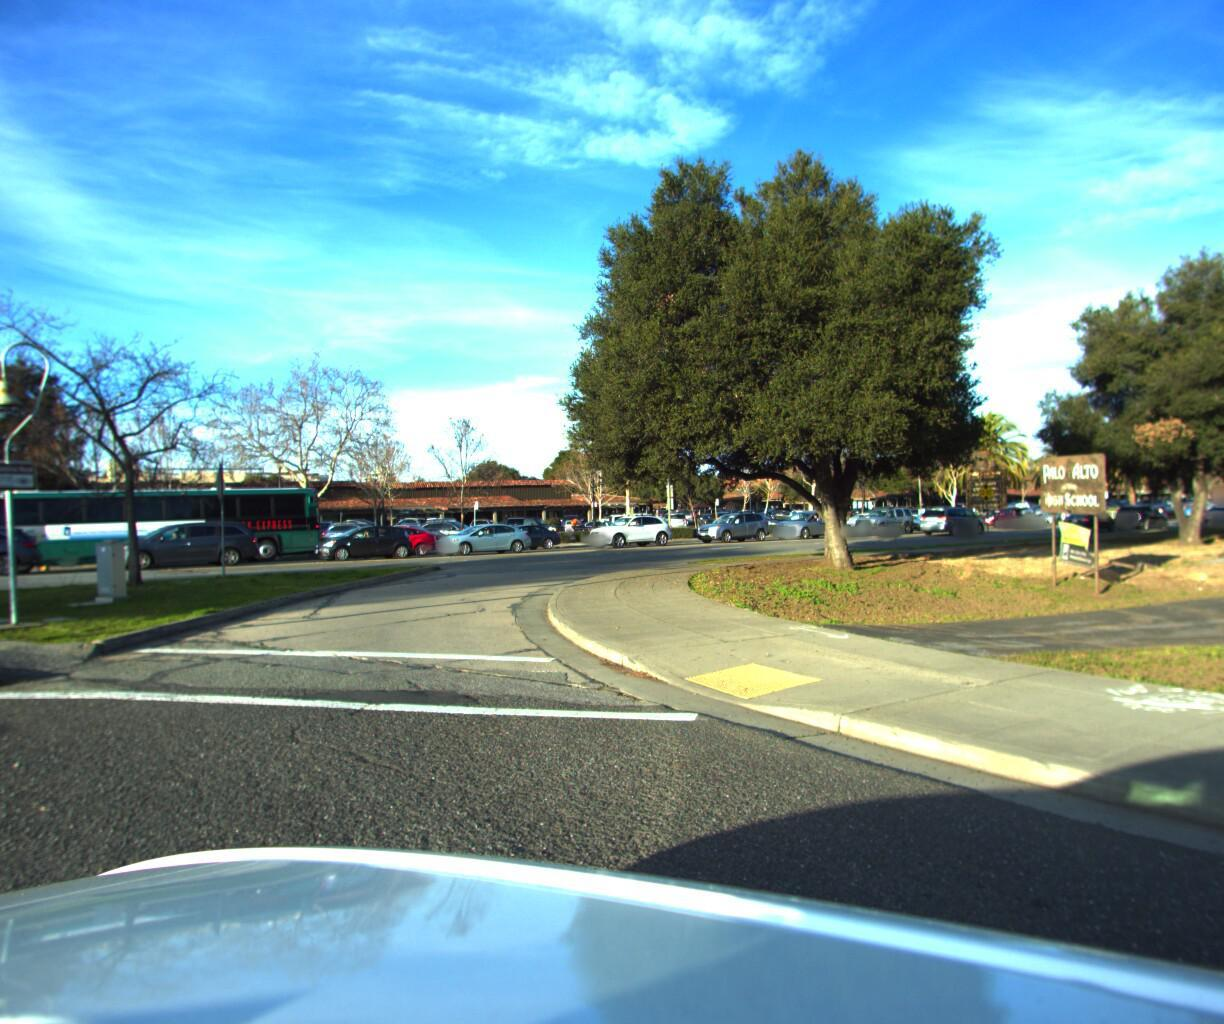bus: (0, 475, 329, 580)
car: (102, 511, 268, 570), (331, 517, 444, 557), (308, 516, 413, 558), (426, 513, 535, 552), (469, 513, 565, 550), (580, 506, 675, 544), (767, 500, 855, 536), (690, 502, 776, 538), (0, 516, 45, 582), (961, 494, 1042, 529), (845, 496, 921, 533), (914, 495, 984, 530), (1055, 496, 1124, 529), (488, 509, 569, 537), (1108, 495, 1173, 526), (832, 502, 895, 529), (898, 500, 957, 526), (1197, 491, 1224, 517)
